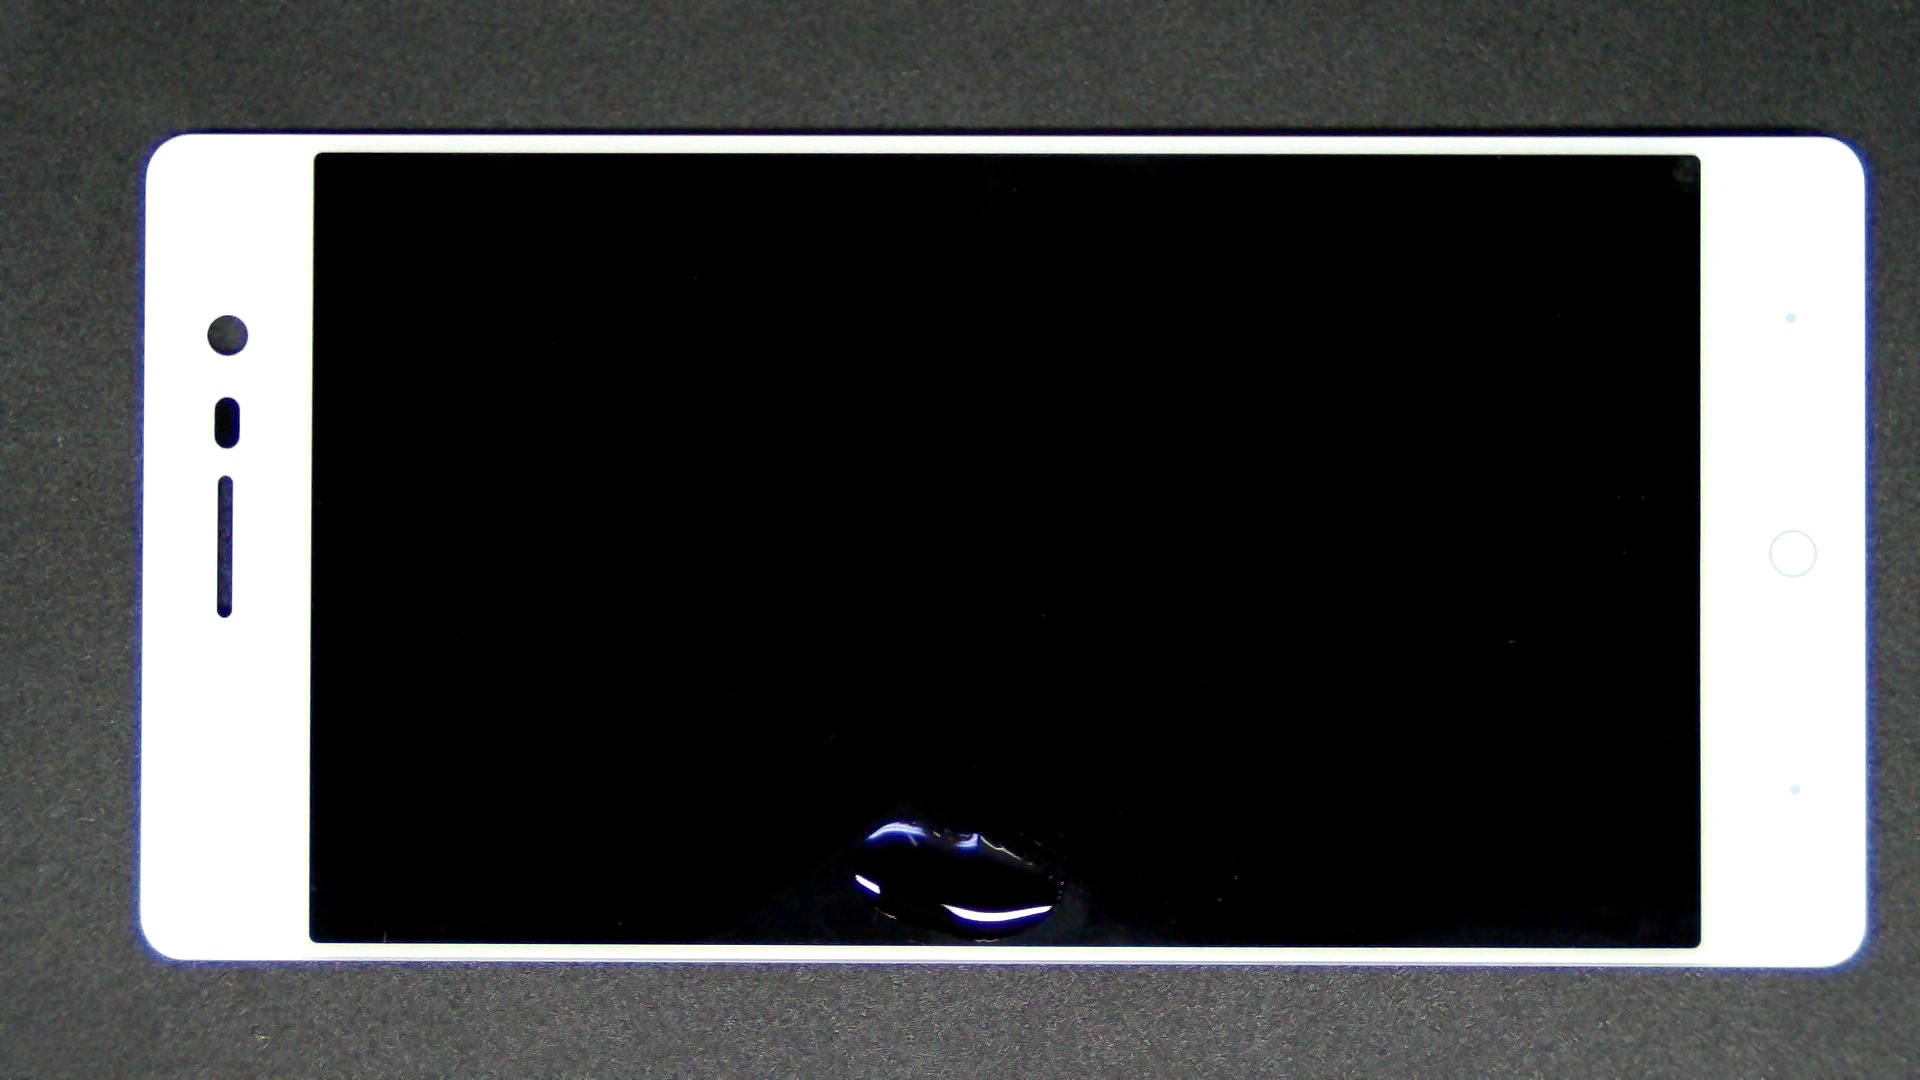oil: (451, 410, 1349, 1080)
